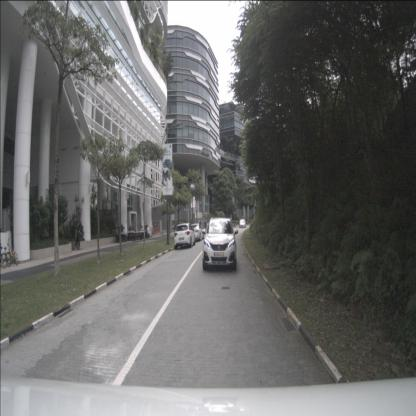human-pedestrian-adult: (74, 222, 82, 250), (117, 226, 122, 242), (122, 227, 126, 242), (128, 225, 132, 239), (115, 227, 119, 241), (146, 226, 150, 238), (131, 226, 134, 239), (135, 226, 138, 239), (140, 226, 143, 237), (199, 220, 201, 230)
vehicle-bicycle: (6, 237, 19, 266), (0, 245, 11, 270), (0, 239, 8, 269)
vehicle-car: (202, 218, 237, 270), (174, 223, 195, 250), (189, 223, 204, 242), (239, 219, 246, 228)
